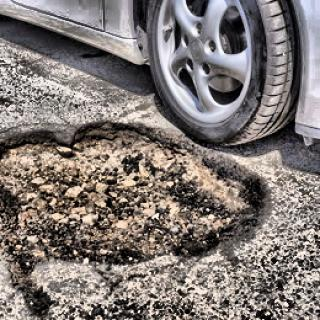pothole: (0, 118, 272, 314)
